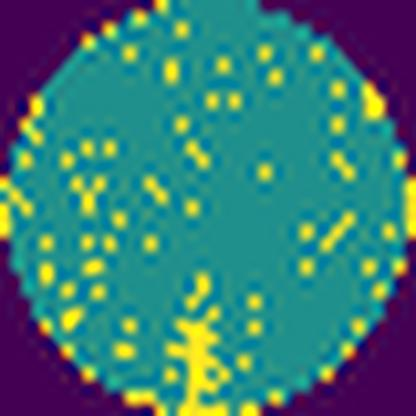Edge-Loc: (163, 304, 230, 416)
